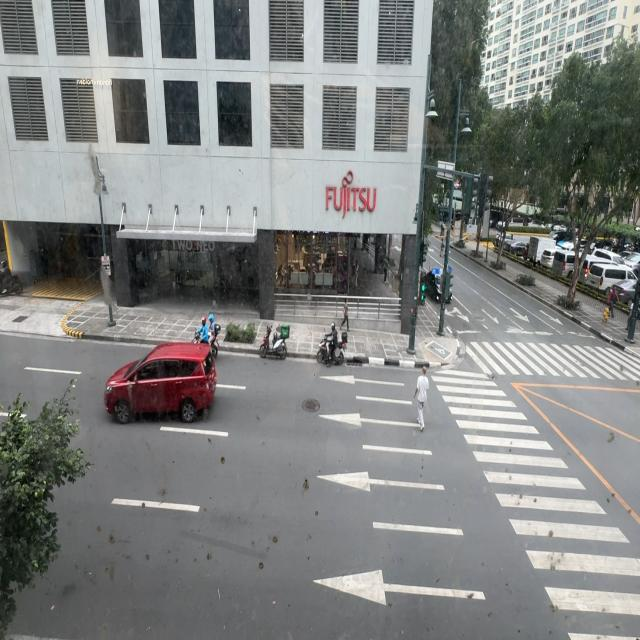jaywalking: (412, 364, 426, 429)
pedestrain: (626, 294, 638, 339), (608, 285, 620, 318), (340, 302, 349, 332)
